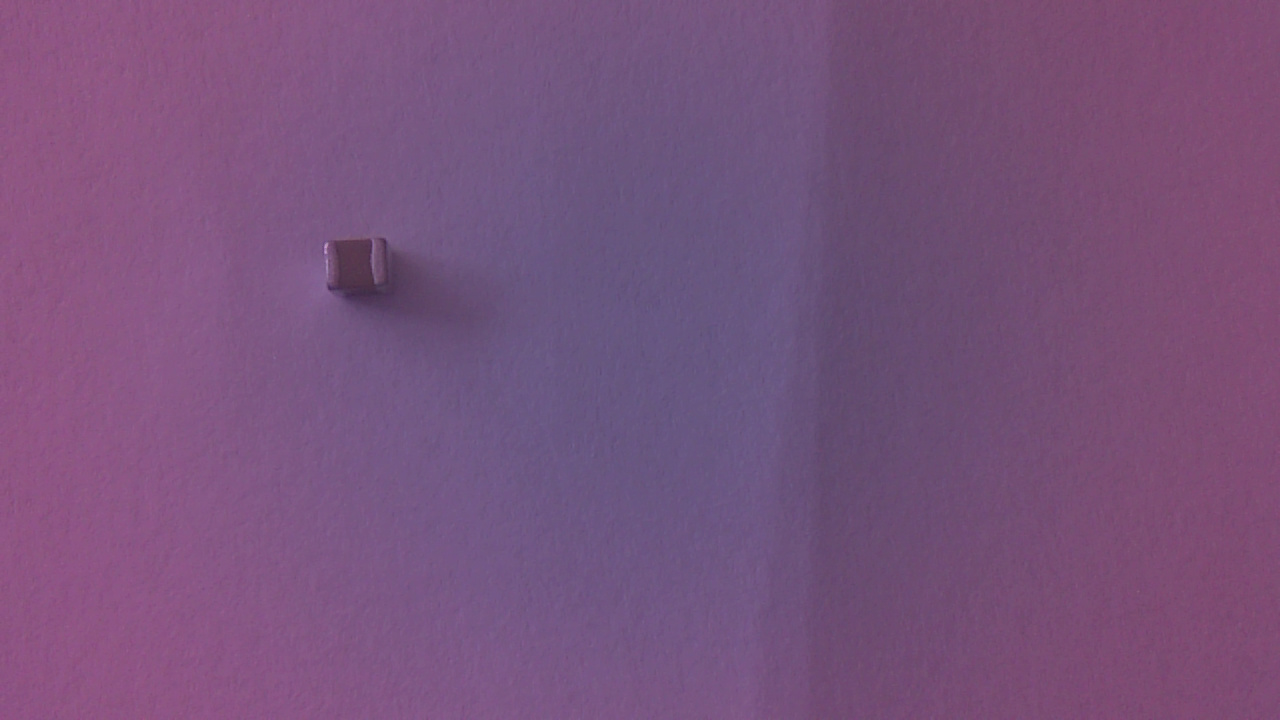Condensator: (325, 237, 401, 308)
